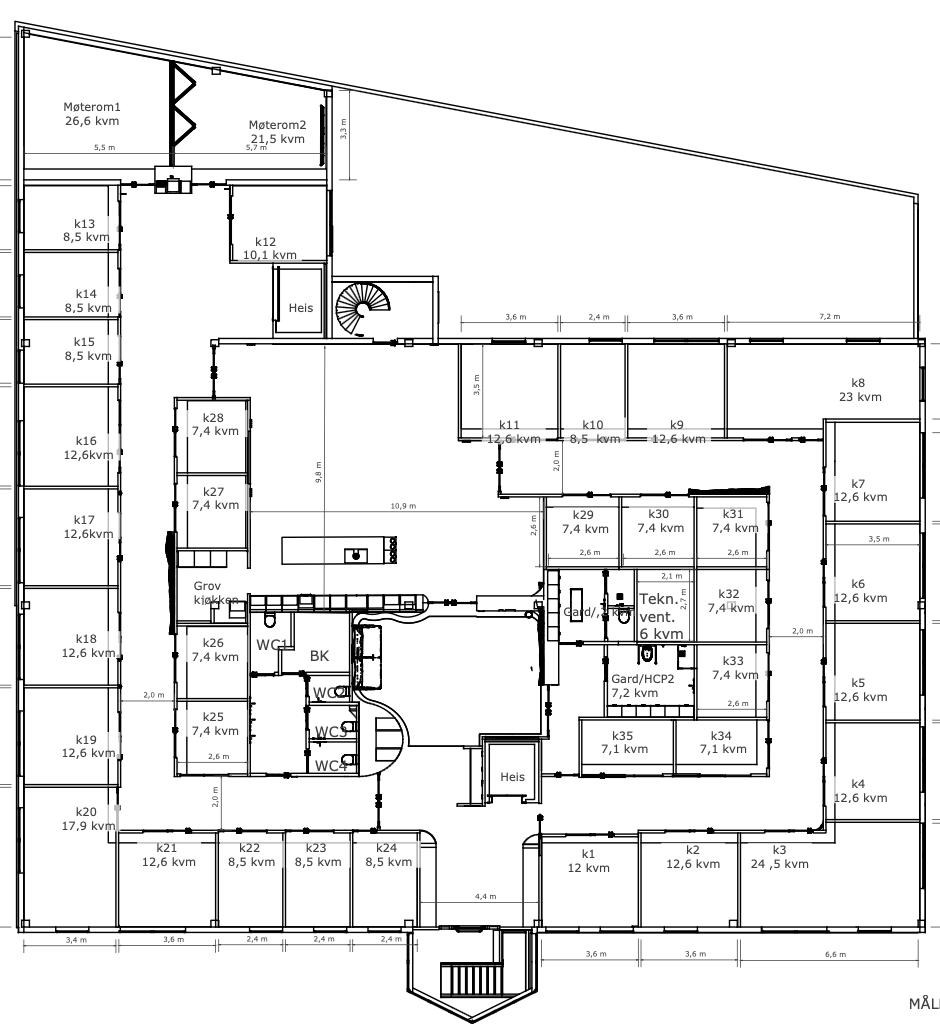room: (18, 25, 171, 169), (740, 820, 921, 929), (726, 340, 922, 439), (171, 61, 330, 167), (21, 786, 118, 930), (824, 420, 924, 523), (21, 586, 121, 686), (824, 720, 924, 820), (21, 386, 119, 488), (639, 830, 740, 928), (824, 621, 922, 721), (824, 522, 922, 622), (460, 342, 560, 440), (118, 831, 216, 930), (627, 340, 725, 439), (22, 487, 119, 587), (22, 686, 119, 786), (540, 834, 640, 928), (231, 183, 329, 262), (20, 182, 120, 251), (21, 317, 120, 386), (216, 830, 284, 930), (606, 567, 696, 642), (284, 830, 352, 929), (559, 340, 626, 440), (21, 251, 120, 318), (329, 279, 436, 340), (353, 830, 419, 927), (249, 674, 308, 774), (175, 699, 249, 774), (175, 474, 248, 550), (620, 495, 696, 567), (580, 718, 674, 776), (695, 494, 768, 568), (546, 495, 620, 568), (175, 625, 248, 699), (696, 568, 768, 643), (175, 399, 247, 474), (697, 643, 769, 717), (675, 718, 768, 775), (500, 439, 563, 494), (308, 703, 358, 740), (308, 741, 358, 775), (308, 674, 351, 703)
